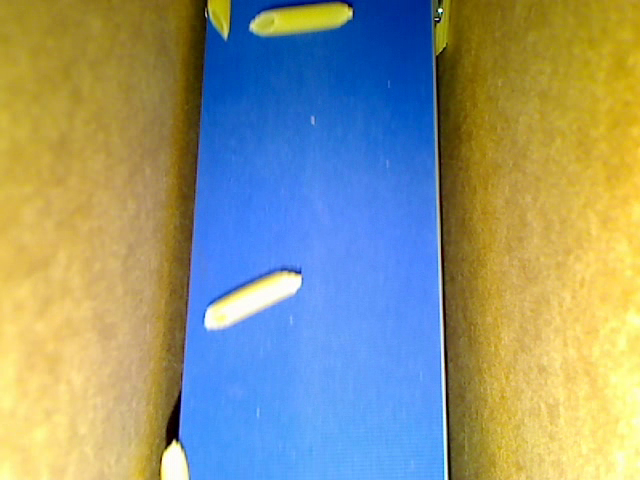penne: (200, 269, 305, 330), (250, 1, 353, 38), (154, 441, 192, 479), (434, 1, 454, 62), (207, 1, 233, 43)
